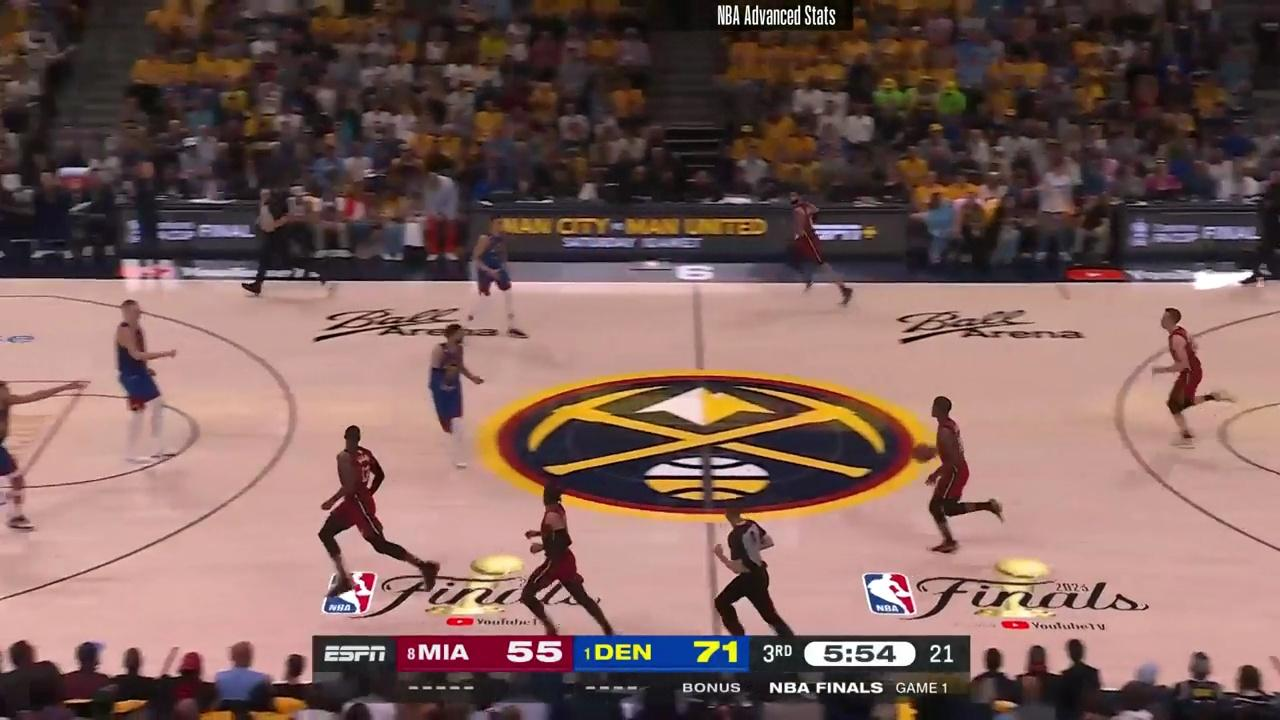Ball: (911, 442, 935, 466)
Person: (312, 423, 450, 609), (914, 390, 1006, 558), (519, 484, 614, 641), (109, 293, 187, 460), (1155, 307, 1231, 453), (785, 188, 859, 306), (423, 315, 485, 447), (469, 215, 532, 341), (2, 368, 38, 535)
Referee: (712, 500, 794, 635), (256, 180, 333, 300)
person: (1248, 160, 1280, 292)
